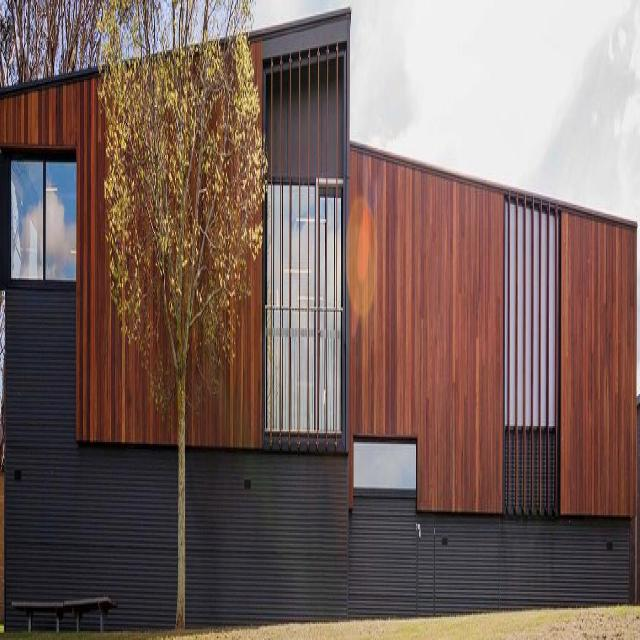Railing: (268, 290, 344, 433)
plant: (0, 0, 268, 414)
wall: (1, 9, 638, 625)
windows: (503, 199, 556, 426), (266, 172, 342, 308), (12, 146, 76, 278), (354, 427, 419, 483)
